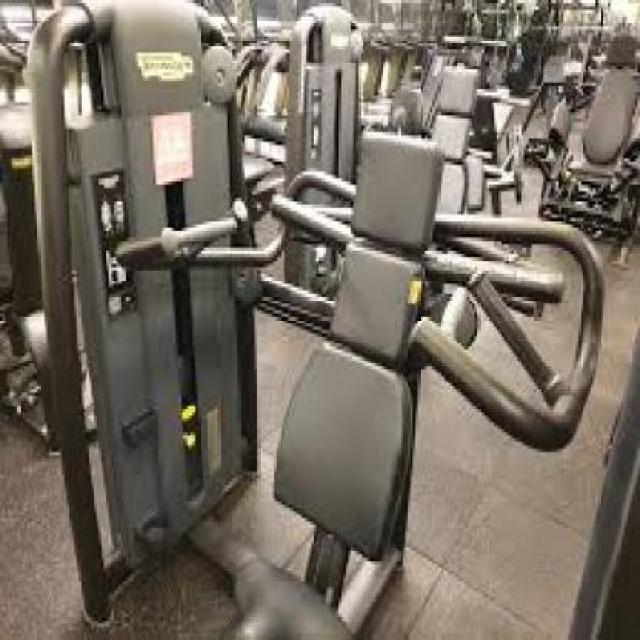shoulder press machine: (21, 0, 608, 640)
